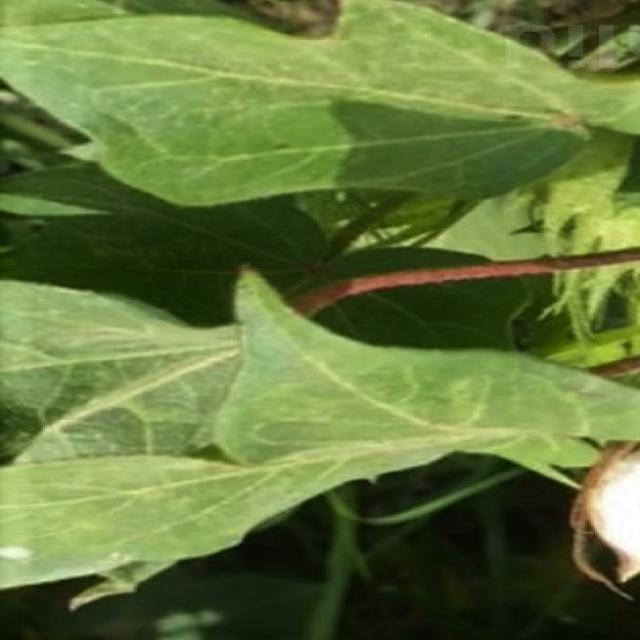Healthy Leaf: (53, 15, 634, 640)
